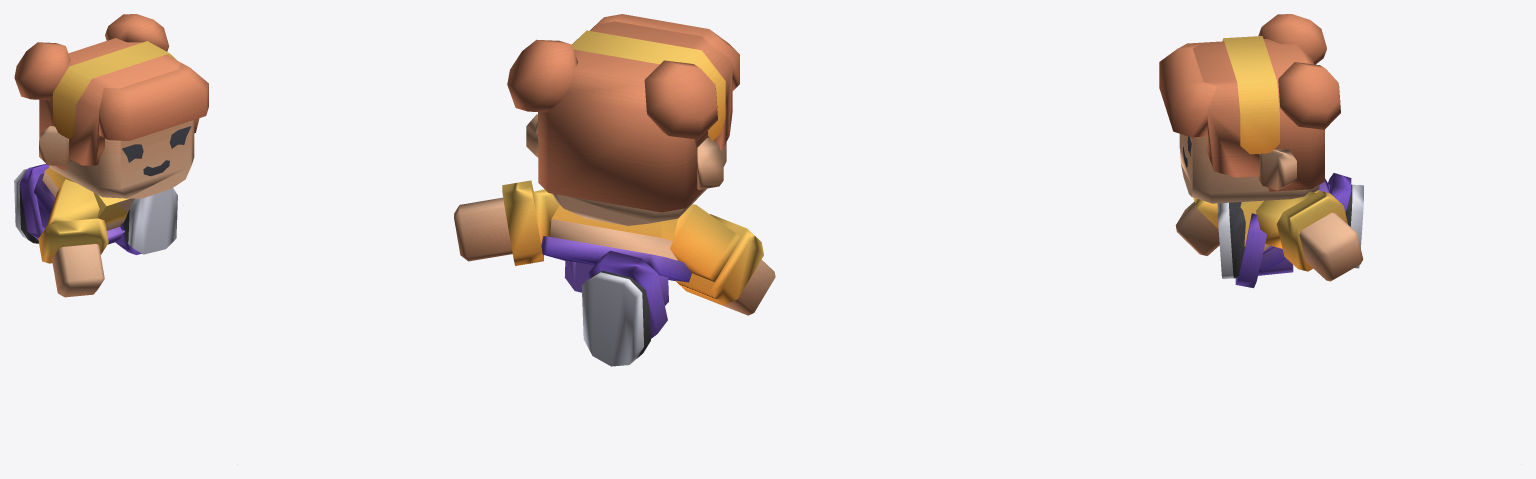
The model's file is crowdB_sprint_2.glb.
The picture shows the model from 3 angles, left to right: view 1: azimuth 30°, elevation 25°; view 2: azimuth 150°, elevation 25°; view 3: azimuth 270°, elevation 25°; orthographic projection. The views are drawn at different scales.
Visible parts, largest first — view 1: crowdB-sprint-2; view 2: crowdB-sprint-2; view 3: crowdB-sprint-2.
Boxes of the visible parts, <box> form: crowdB-sprint-2: <box>14,14,208,297</box>; crowdB-sprint-2: <box>454,14,775,366</box>; crowdB-sprint-2: <box>1159,14,1363,288</box>.
Size of the model in its own units: 1.2 by 0.8821 by 1.2.
Materials: 1 (1 with a texture image).
